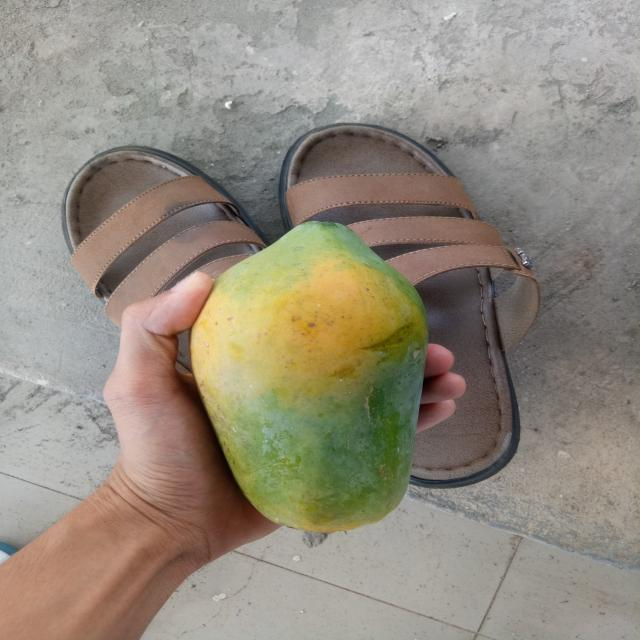Pepaya rippen: (183, 215, 444, 547)
